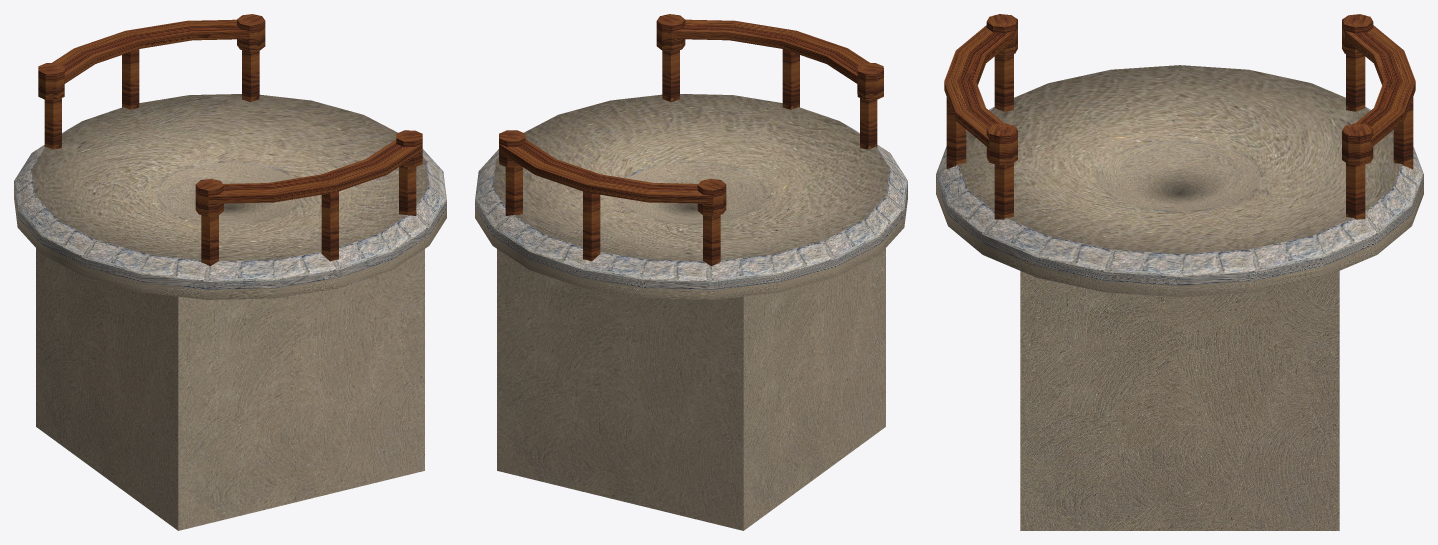
Rendered from Checkpoint.fbx.
3 renders of one model, left to right at view 1: azimuth 30°, elevation 25°; view 2: azimuth 150°, elevation 25°; view 3: azimuth 270°, elevation 25°, orthographic. The views are drawn at different scales.
Visible parts, largest first — view 1: checkPoint; view 2: checkPoint; view 3: checkPoint.
Boxes of the visible parts, x1=… form: checkPoint: x1=14, y1=14, x2=446, y2=530; checkPoint: x1=475, y1=14, x2=907, y2=530; checkPoint: x1=936, y1=14, x2=1423, y2=530.
Bounding box in the file's own units: 153 × 134 × 153.
